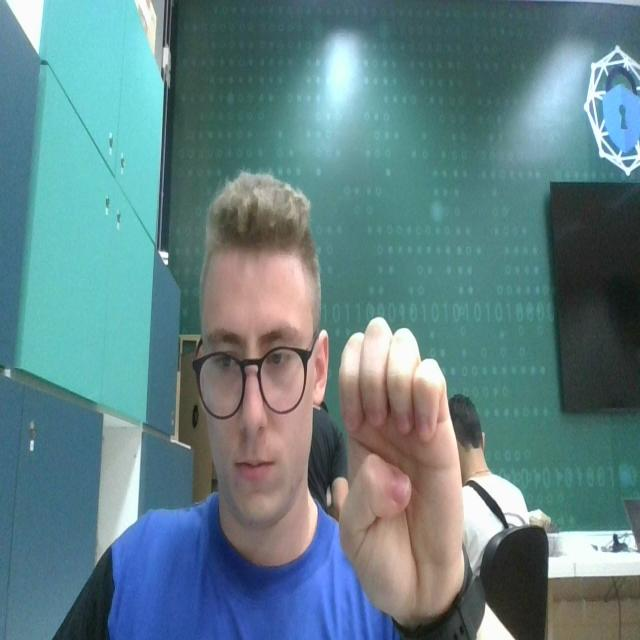E: (335, 314, 467, 612)
